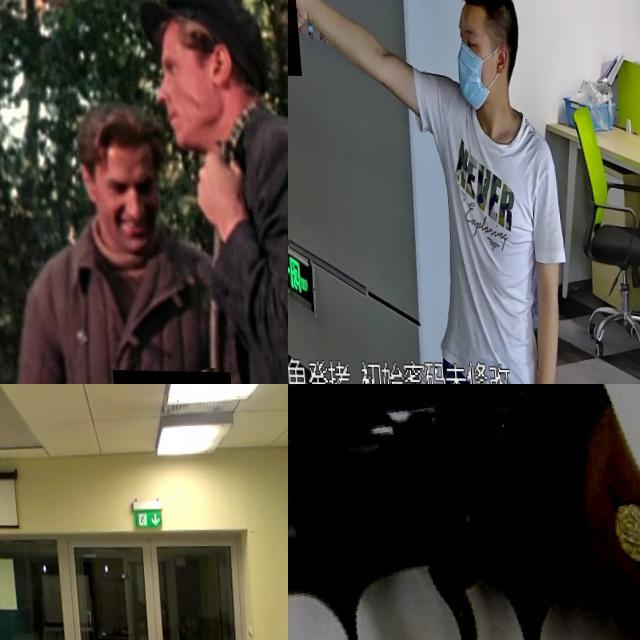gun-knife-thesis - v11 Yolov5 augmented: (288, 384, 640, 640), (288, 0, 322, 75)
